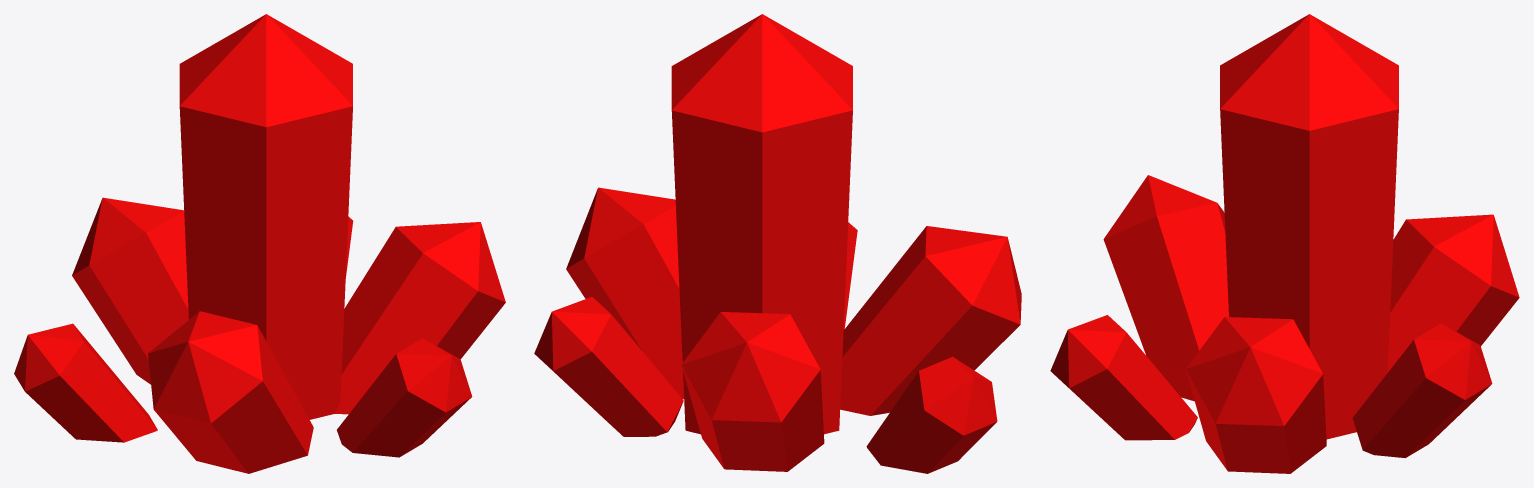
File: alchemica_crystal_fomo.fbx
3 renders of one model, left to right at view 1: azimuth 30°, elevation 25°; view 2: azimuth 150°, elevation 25°; view 3: azimuth 270°, elevation 25°, orthographic. The views are drawn at different scales.
Parts seen in each view (by area): view 1: alchemica_crystal_fomo; view 2: alchemica_crystal_fomo; view 3: alchemica_crystal_fomo.
Part boxes in pixels (x1=…): alchemica_crystal_fomo: x1=14, y1=14, x2=505, y2=473; alchemica_crystal_fomo: x1=534, y1=14, x2=1021, y2=473; alchemica_crystal_fomo: x1=1050, y1=14, x2=1519, y2=473.
Size of the model in its own units: 2.11 by 1.77 by 1.92.
